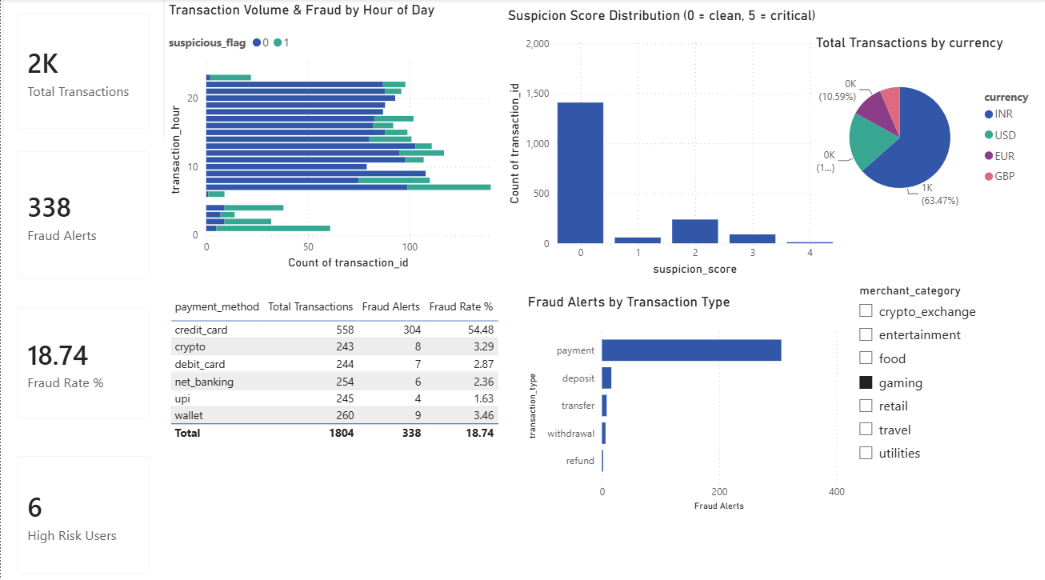

Layout of this report page (visuals, bound fields, positions):
{"tool":"powerbi","page":{"name":"Transaction Analysis","canvas":[1280,720],"ordinal":1},"visuals":[{"type":"cardVisual","fields":{"Data":["transactions_enriched.Total Transactions"]},"box":[2.5,0,197.5,176.2],"z":0},{"type":"cardVisual","fields":{"Data":["transactions_enriched.Fraud Alerts"]},"box":[2.5,168.8,197.5,191.2],"z":1000},{"type":"cardVisual","fields":{"Data":["transactions_enriched.Fraud Rate %"]},"box":[2.5,360,197.5,170],"z":2000},{"type":"cardVisual","fields":{"Data":["users_risk_scored.High Risk Users"]},"box":[2.5,541.2,197.5,178.8],"z":3000},{"type":"barChart","title":"Transaction Volume & Fraud by Hour of Day","fields":{"Category":["transactions_enriched.transaction_hour"],"Y":["CountNonNull(transactions_enriched.transaction_id)"],"Series":["transactions_enriched.suspicious_flag"]},"box":[200,2.5,413.8,332.5],"z":3001},{"type":"tableEx","fields":{"Values":["transactions_enriched.payment_method","transactions_enriched.Total Transactions","transactions_enriched.Fraud Alerts","transactions_enriched.Fraud Rate %"]},"box":[201.2,360,413.8,198.8],"z":3002},{"type":"columnChart","title":"Suspicion Score Distribution (0 = clean, 5 = critical)","fields":{"Category":["transactions_enriched.suspicion_score"],"Y":["CountNonNull(transactions_enriched.transaction_id)"]},"box":[615,10,407.5,332.5],"z":3003},{"type":"barChart","title":"Fraud Alerts by Transaction Type","fields":{"Category":["transactions_enriched.transaction_type"],"Y":["transactions_enriched.Fraud Alerts"]},"box":[640,360,397.5,271.2],"z":3004},{"type":"pieChart","fields":{"Category":["transactions_enriched.currency"],"Y":["transactions_enriched.Total Transactions"]},"box":[991.2,42.5,288.8,222.5],"z":3005},{"type":"slicer","fields":{"Values":["transactions_enriched.merchant_category"]},"box":[1037.5,342.5,233.8,286.2],"z":3006}]}

Visuals, with their boxes in screenshot pixels (x1, y1, x2, y2), scaled from the page's 1280x720 canvas onto the 1045x580 screenshot:
cardVisual - transactions_enriched.Total Transactions: rect(2, 0, 163, 142)
cardVisual - transactions_enriched.Fraud Alerts: rect(2, 136, 163, 290)
cardVisual - transactions_enriched.Fraud Rate %: rect(2, 290, 163, 427)
cardVisual - users_risk_scored.High Risk Users: rect(2, 436, 163, 579)
"Transaction Volume & Fraud by Hour of Day" barChart: rect(163, 2, 501, 270)
tableEx - transactions_enriched.payment_method x transactions_enriched.Total Transactions: rect(164, 290, 502, 450)
"Suspicion Score Distribution (0 = clean, 5 = critical)" columnChart: rect(502, 8, 835, 276)
"Fraud Alerts by Transaction Type" barChart: rect(522, 290, 847, 508)
pieChart - transactions_enriched.currency x transactions_enriched.Total Transactions: rect(809, 34, 1044, 213)
slicer - transactions_enriched.merchant_category: rect(847, 276, 1038, 506)
